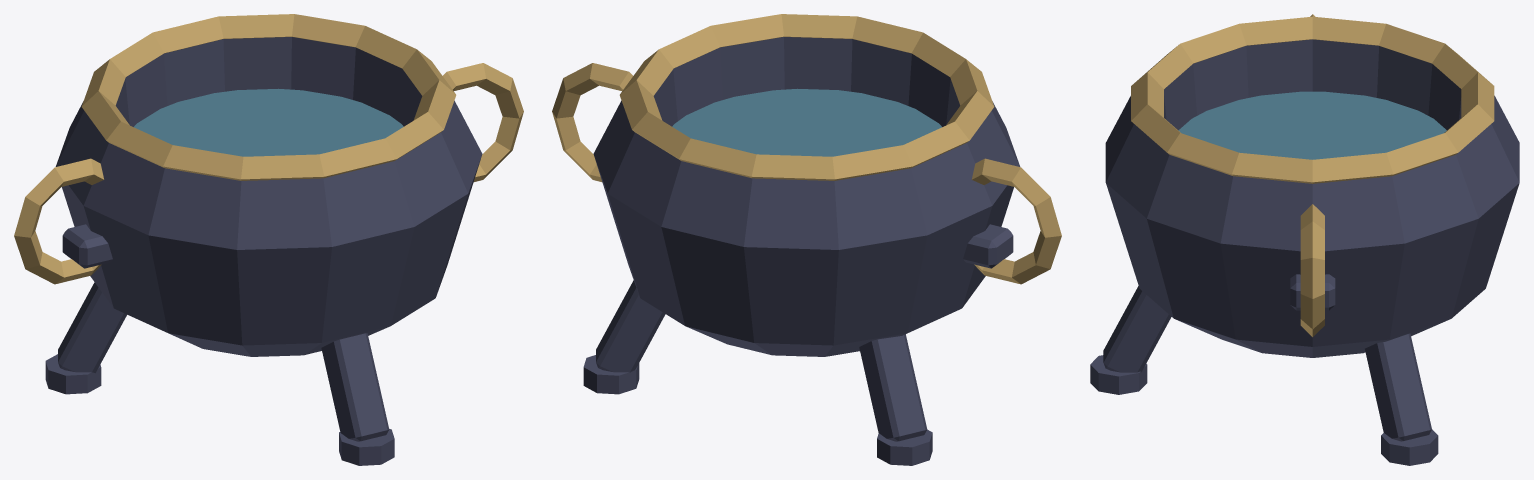
Rendered from 02_Tripod_Cauldron.glb.
3 views of the same model, side by side, from view 1: azimuth 30°, elevation 25°; view 2: azimuth 150°, elevation 25°; view 3: azimuth 270°, elevation 25° (orthographic).
Visible parts, largest first — view 1: 02_Tripod_Cauldron__Body; view 2: 02_Tripod_Cauldron__Body; view 3: 02_Tripod_Cauldron__Body.
Part boxes in pixels (box(x1,y1,x2,y2)): 02_Tripod_Cauldron__Body: box(14, 14, 523, 465); 02_Tripod_Cauldron__Body: box(552, 14, 1061, 465); 02_Tripod_Cauldron__Body: box(1090, 14, 1519, 465).
Bounding box in the file's own units: 2.86 × 1.59 × 2.1.
Materials: 1 (1 with a texture image).
